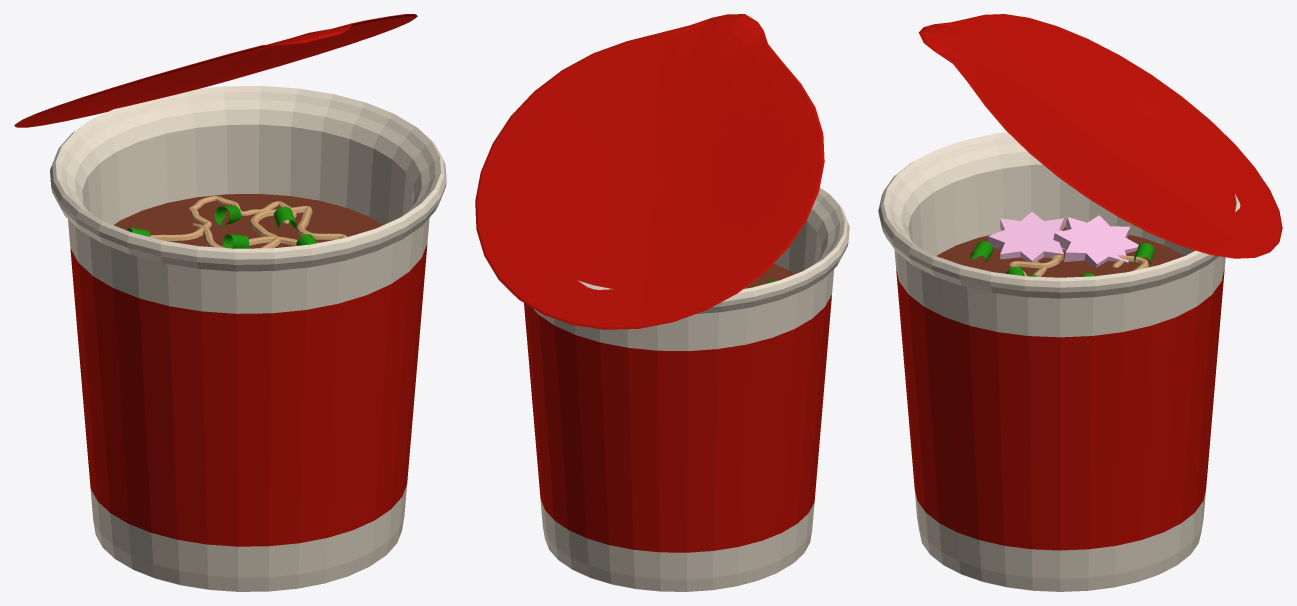
File: Cup Noodle.fbx
3 renders of one model, left to right at view 1: azimuth 30°, elevation 25°; view 2: azimuth 150°, elevation 25°; view 3: azimuth 270°, elevation 25°, orthographic. The views are drawn at different scales.
Parts seen in each view (by area): view 1: label, out and inside, top part, soup, noodels.001, noodels; view 2: top part, label, out and inside; view 3: label, out and inside, top part, soup, narutomaki.001, narutomaki, noodels.001.
Part boxes in pixels (x1=…): label: x1=70, y1=244, x2=427, y2=546; out and inside: x1=50, y1=86, x2=446, y2=591; top part: x1=14, y1=14, x2=417, y2=127; soup: x1=114, y1=194, x2=382, y2=248; noodels.001: x1=150, y1=196, x2=319, y2=245; noodels: x1=193, y1=206, x2=347, y2=248; top part: x1=475, y1=14, x2=824, y2=329; label: x1=524, y1=295, x2=831, y2=552; out and inside: x1=533, y1=188, x2=849, y2=591; label: x1=896, y1=268, x2=1224, y2=550; out and inside: x1=878, y1=132, x2=1240, y2=591; top part: x1=918, y1=14, x2=1282, y2=258; soup: x1=936, y1=227, x2=1184, y2=277; narutomaki.001: x1=1053, y1=215, x2=1138, y2=267; narutomaki: x1=988, y1=212, x2=1063, y2=262; noodels.001: x1=1008, y1=254, x2=1148, y2=276.
Size of the model in its own units: 270 by 390 by 285.
